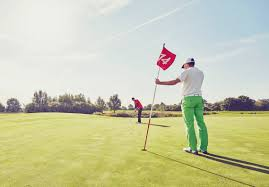Flag: (156, 44, 176, 71)
